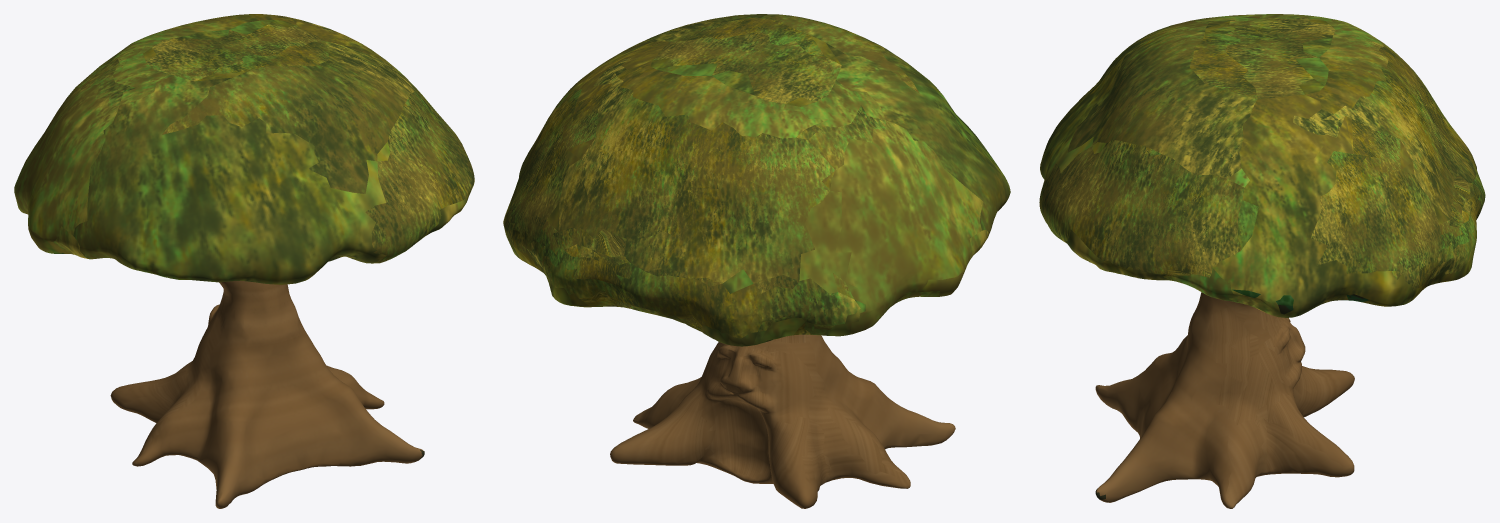
The model's file is arvoredekucerta.fbx.
3 renders of one model, left to right at view 1: azimuth 30°, elevation 25°; view 2: azimuth 150°, elevation 25°; view 3: azimuth 270°, elevation 25°, orthographic. The views are drawn at different scales.
Parts seen in each view (by area): view 1: Cube; view 2: Cube; view 3: Cube.
Part boxes in pixels (x1=…): Cube: x1=14, y1=14, x2=474, y2=508; Cube: x1=503, y1=14, x2=1010, y2=508; Cube: x1=1039, y1=14, x2=1485, y2=508.
Bounding box in the file's own units: 27081 × 25599 × 24982.
